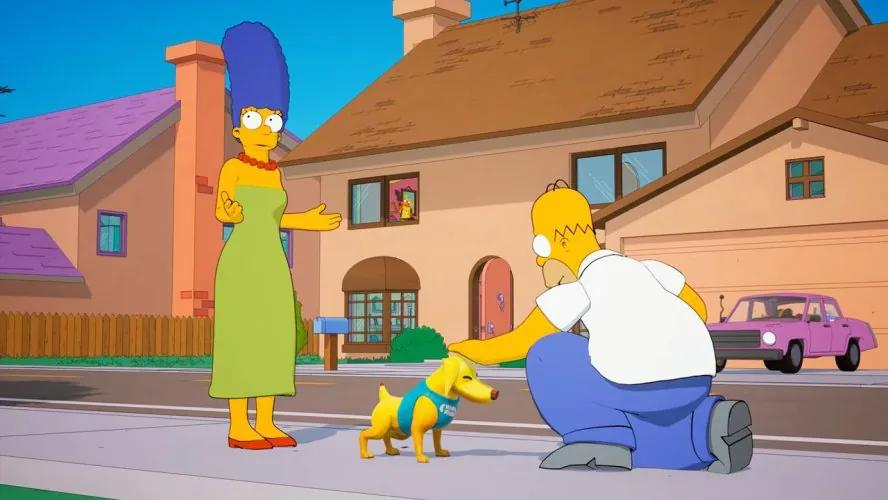Homer: (493, 174, 789, 478)
Marge: (202, 16, 353, 481)
